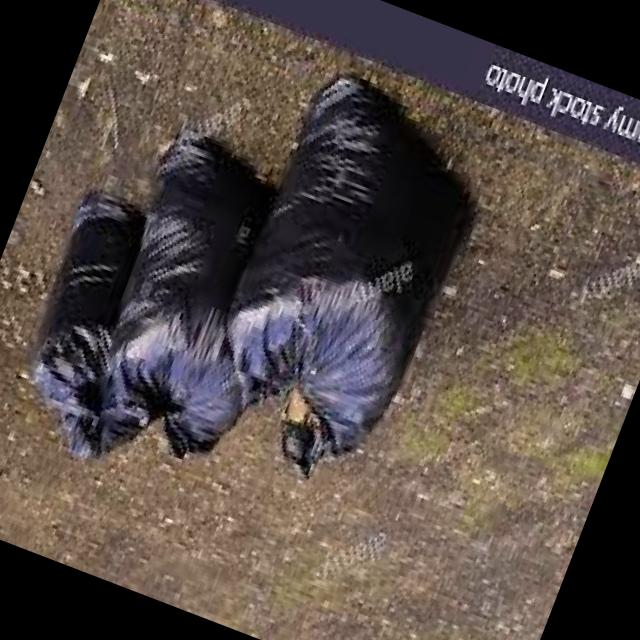high trash: (31, 80, 467, 474)
